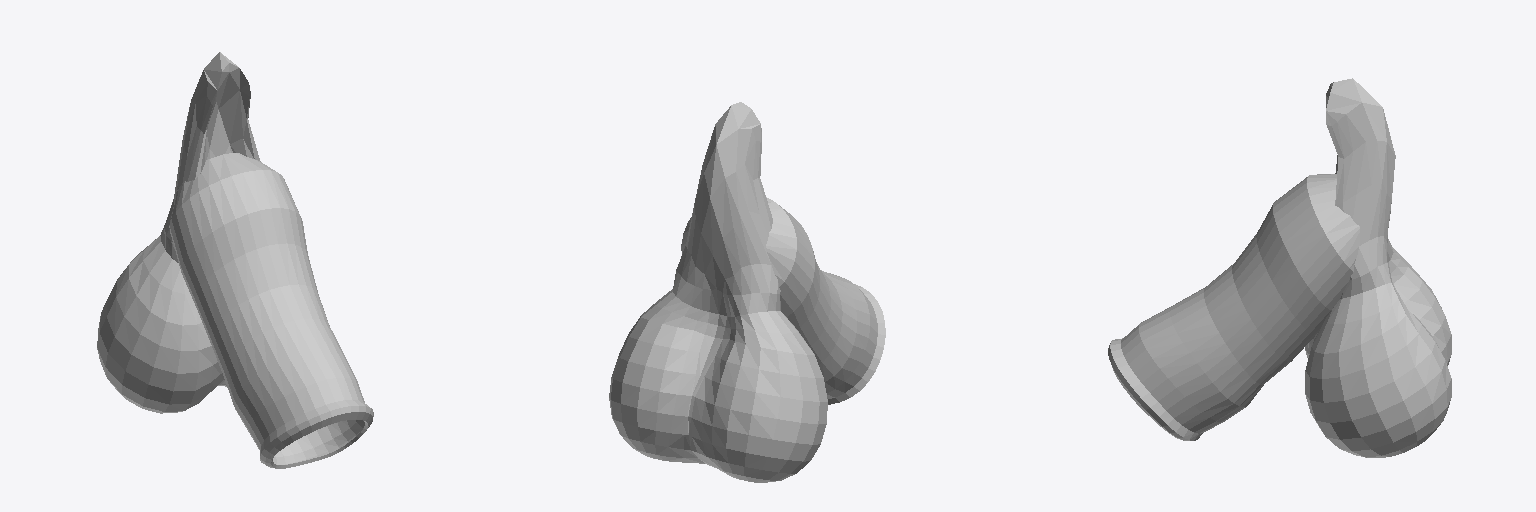
The model's file is Dick_out_sheath 2.7.obj.
The picture shows the model from 3 angles: view 1: azimuth 30°, elevation 25°; view 2: azimuth 150°, elevation 25°; view 3: azimuth 270°, elevation 25°; orthographic projection.
Parts seen in each view (by area): view 1: dick_in_sheath.001_horsecock.002; view 2: dick_in_sheath.001_horsecock.002; view 3: dick_in_sheath.001_horsecock.002.
Boxes of the visible parts, box(x1,y1,x2,y2) form: dick_in_sheath.001_horsecock.002: box(97, 52, 373, 468); dick_in_sheath.001_horsecock.002: box(609, 102, 885, 482); dick_in_sheath.001_horsecock.002: box(1108, 78, 1451, 457).
Bounding box in the file's own units: 14.58 × 24.98 × 21.93.